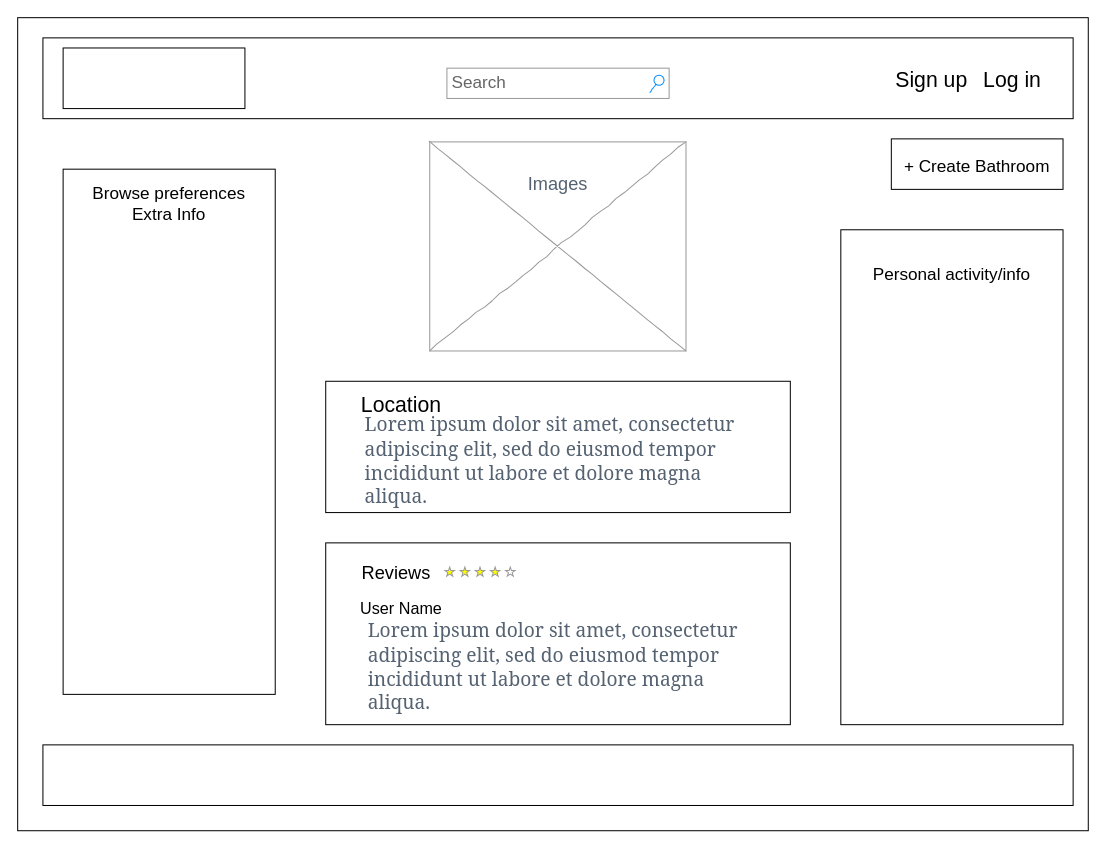
This 1106x848 diagram has some shape labels left out. The shapes that lost their labels are listed below. From the top down, each one's box as (x1, y1, x2, y2) in pixels, then its label:
(62, 47, 245, 109): LOGO
(42, 744, 1073, 805): Flushagram rights reserved
